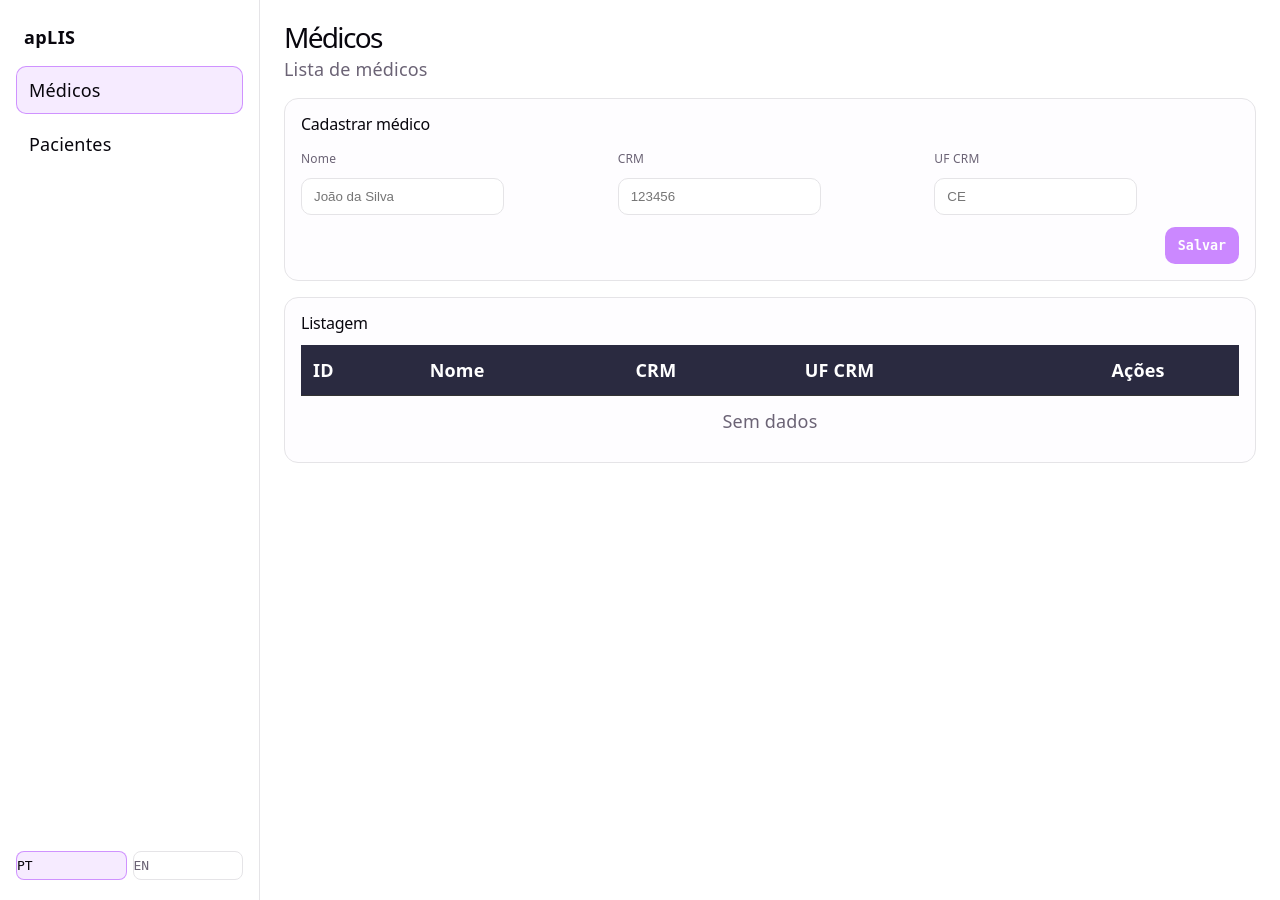
SPA (feature) › renders sidebar and navigates to patients
The image size is (1280, 900).
Check: the heading "Médicos" is shown, box [284,18,382,56]
Click the link "Pacientes": (70, 144) [29,132,112,156]
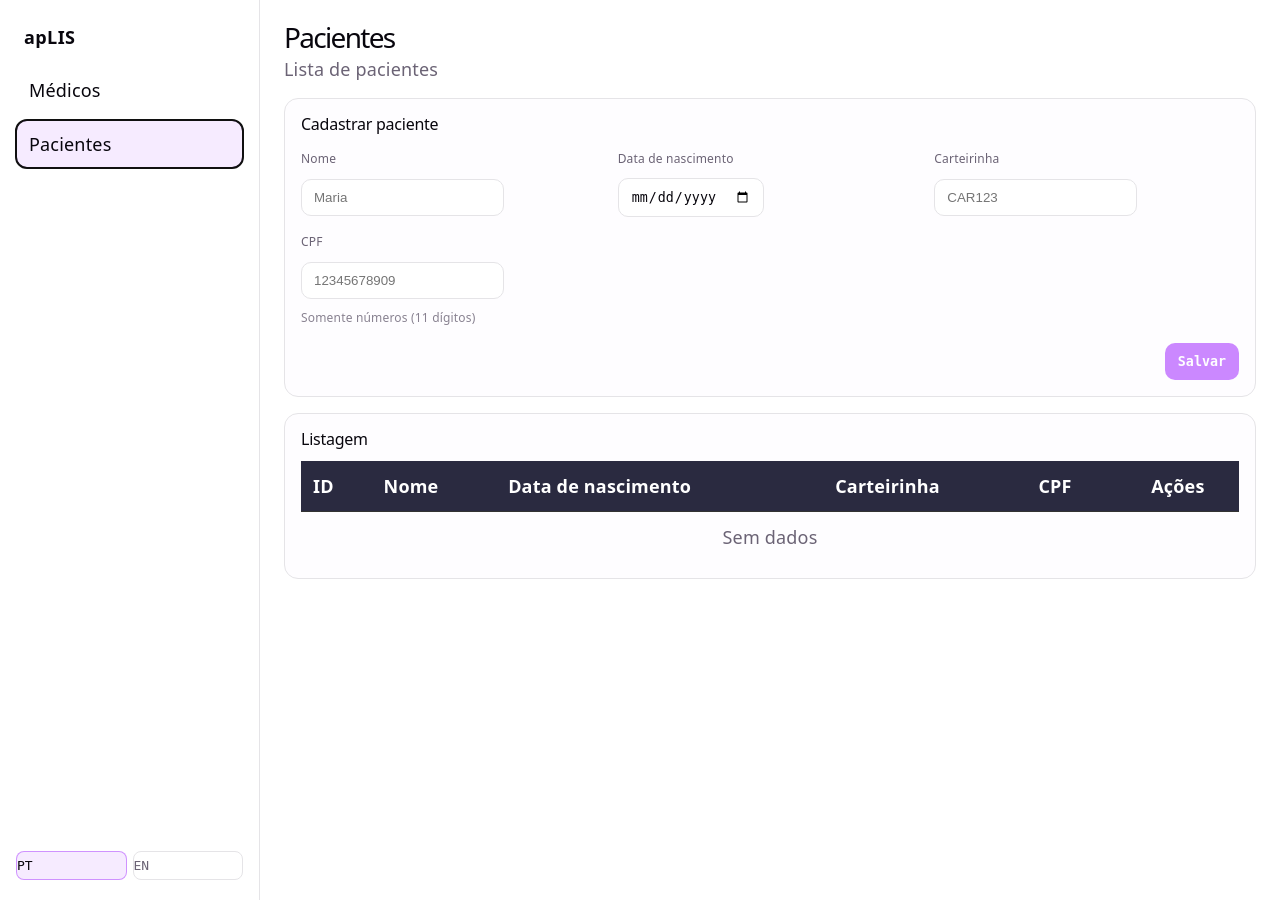
Check: the heading "Pacientes" is shown, box [284,18,395,56]
